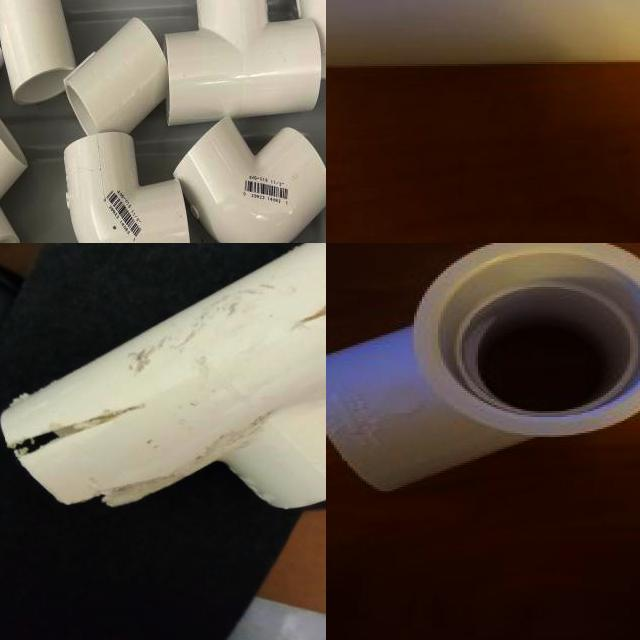Defective: (61, 401, 149, 437), (6, 430, 108, 457), (296, 276, 316, 287)
L Joint: (64, 132, 193, 243)
T Joint: (0, 243, 326, 511), (326, 243, 640, 491), (164, 0, 324, 127)
